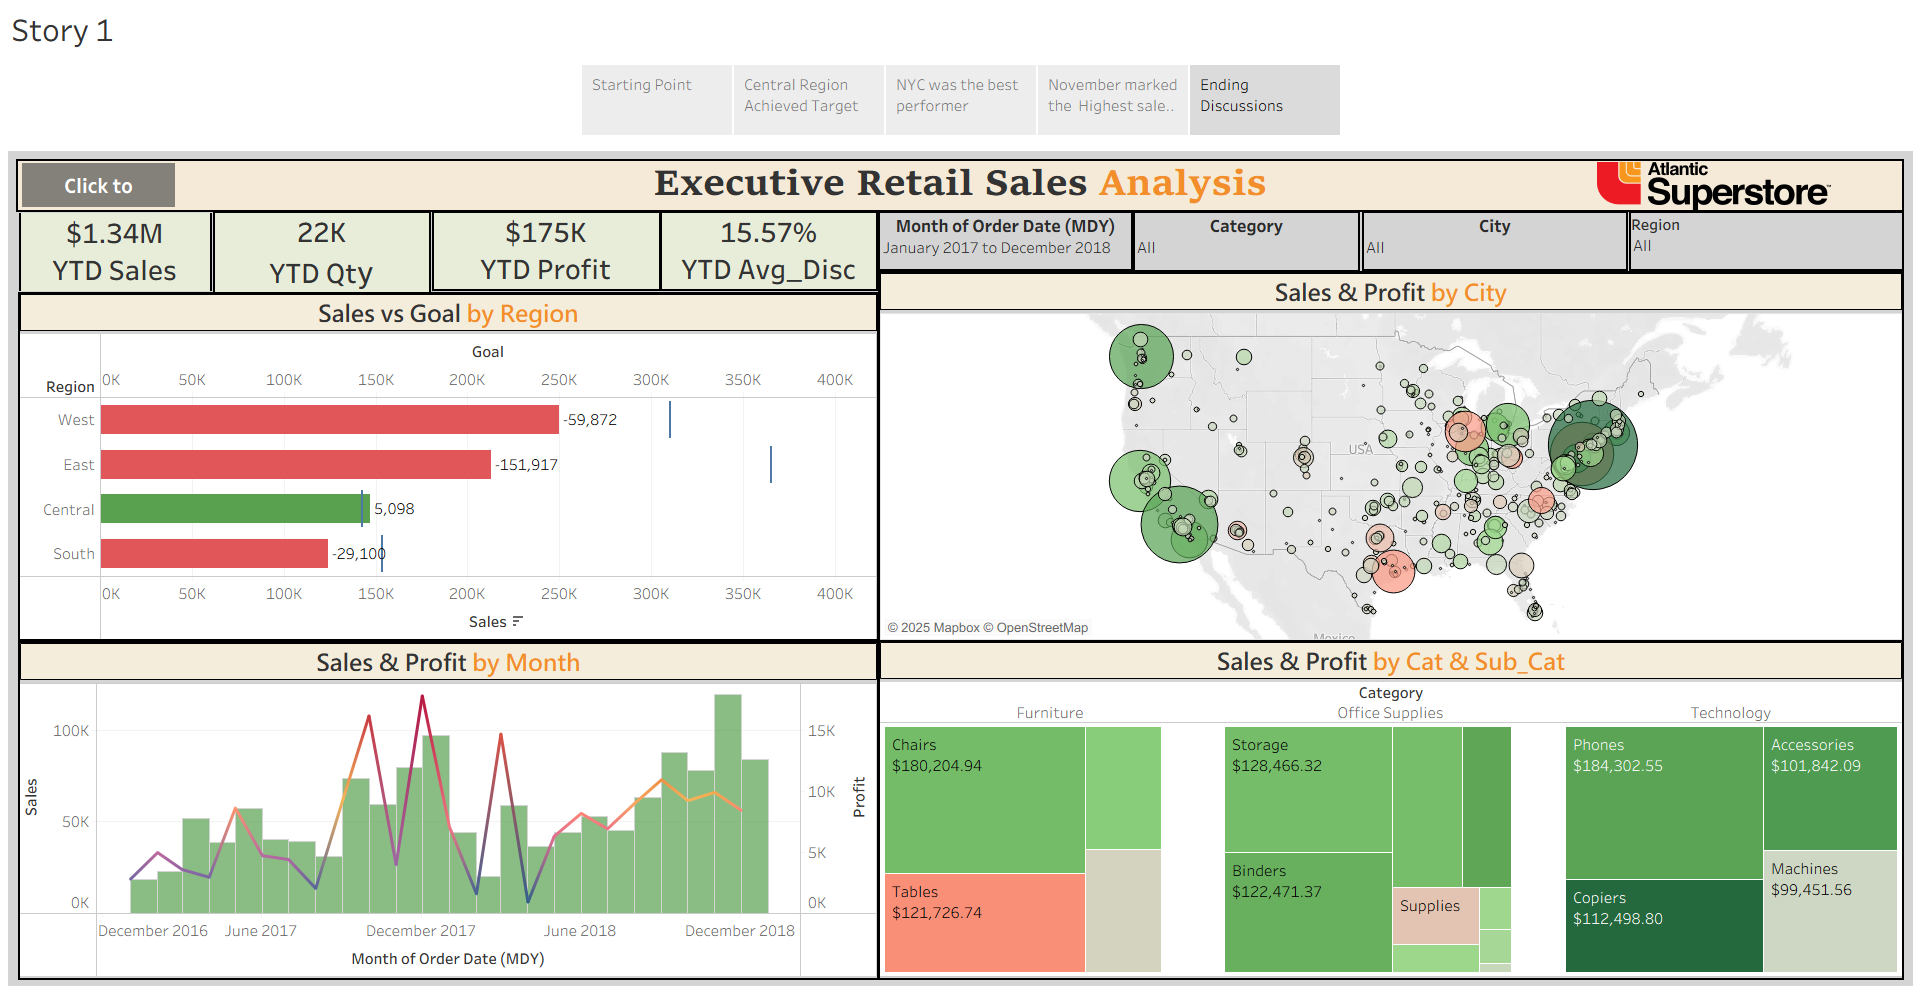

The page's visual inventory and layout, read from the dashboard file:
{"tool":"tableau","page":{"name":"Dashboard 1","canvas":[1000,1000],"units":"permille","ordinal":0},"visuals":[{"type":"title","box":[4.8,10,990.3,63.6]},{"type":"image","param":"Image/atlantic-superstore-2017.svg","box":[834.6,13.7,158.7,59.9]},{"type":"dashboard-object","box":[7.2,15,80.3,52.4]},{"type":"worksheet","title":"Quantity","mark":"Automatic","box":[105,69.9,122.5,116.1]},{"type":"worksheet","title":"Profit","mark":"Automatic","box":[226.3,69.9,97.2,119.9]},{"type":"worksheet","title":"Discount","mark":"Automatic","box":[322.3,69.9,135.2,216]},{"type":"worksheet","title":"Sales","mark":"Automatic","box":[4.2,72.4,102.6,99.9]},{"type":"filter","title":"Time_Series","param":"[federated.0xhq3lh1d73h9h12l06ax1aoxa5d].[tmn:Order Date (MDY):qk]","box":[456.9,72.4,134,71.2]},{"type":"filter","title":"Tree_Map","param":"[federated.0xhq3lh1d73h9h12l06ax1aoxa5d].[none:Category:nk]","box":[590.8,72.4,119.5,72.4]},{"type":"filter","title":"City_Wise","param":"[federated.0xhq3lh1d73h9h12l06ax1aoxa5d].[none:City:nk]","box":[710.9,72.4,140,71.2]},{"type":"filter","title":"Region_Wise","param":"[federated.0xhq3lh1d73h9h12l06ax1aoxa5d].[none:Region:nk]","box":[851.5,72.4,144.2,71.2]},{"type":"worksheet","title":"City_Wise","mark":"Automatic","box":[457.1,143.6,538.7,444.4]},{"type":"worksheet","title":"Region_Wise","mark":"Automatic","rows":["Region"],"cols":["Sales","Goal"],"box":[5.5,168.5,452.1,419.5]},{"type":"worksheet","title":"Tree_Map","mark":"Automatic","cols":["Category"],"box":[457.1,586.8,538.7,407]},{"type":"worksheet","title":"Time_Series","mark":"Automatic","rows":["Sales","Profit"],"cols":["Order Date (MDY)"],"box":[5.4,588,452.3,405.7]}]}

Visuals, with their boxes on the dashboard's canvas, which has no fixed pixel size, in thousandths of its width and height (x1, y1, x2, y2). These are canvas units, not pixel positions in the 1920x993 screenshot, which may show the page scaled, cropped or inside an application window:
title: locate(5, 10, 995, 74)
image: locate(835, 14, 993, 74)
dashboard-object: locate(7, 15, 88, 67)
"Quantity" worksheet: locate(105, 70, 228, 186)
"Profit" worksheet: locate(226, 70, 324, 190)
"Discount" worksheet: locate(322, 70, 458, 286)
"Sales" worksheet: locate(4, 72, 107, 172)
"Time_Series" filter: locate(457, 72, 591, 144)
"Tree_Map" filter: locate(591, 72, 710, 145)
"City_Wise" filter: locate(711, 72, 851, 144)
"Region_Wise" filter: locate(852, 72, 996, 144)
"City_Wise" worksheet: locate(457, 144, 996, 588)
"Region_Wise" worksheet: locate(6, 168, 458, 588)
"Tree_Map" worksheet: locate(457, 587, 996, 994)
"Time_Series" worksheet: locate(5, 588, 458, 994)
